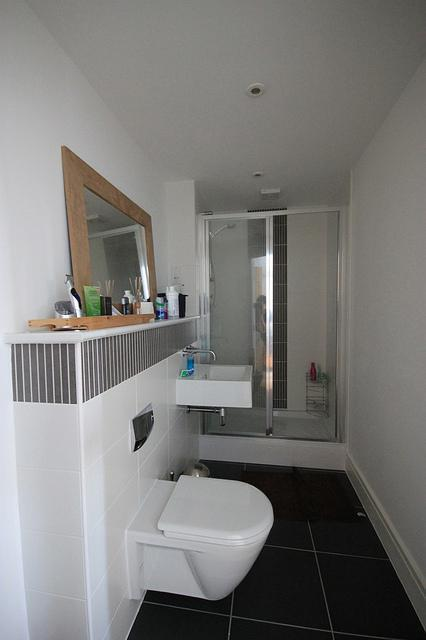Ducha: (197, 217, 346, 466)
Lavamanos: (169, 344, 256, 414)
Sanitario: (123, 457, 280, 612)
